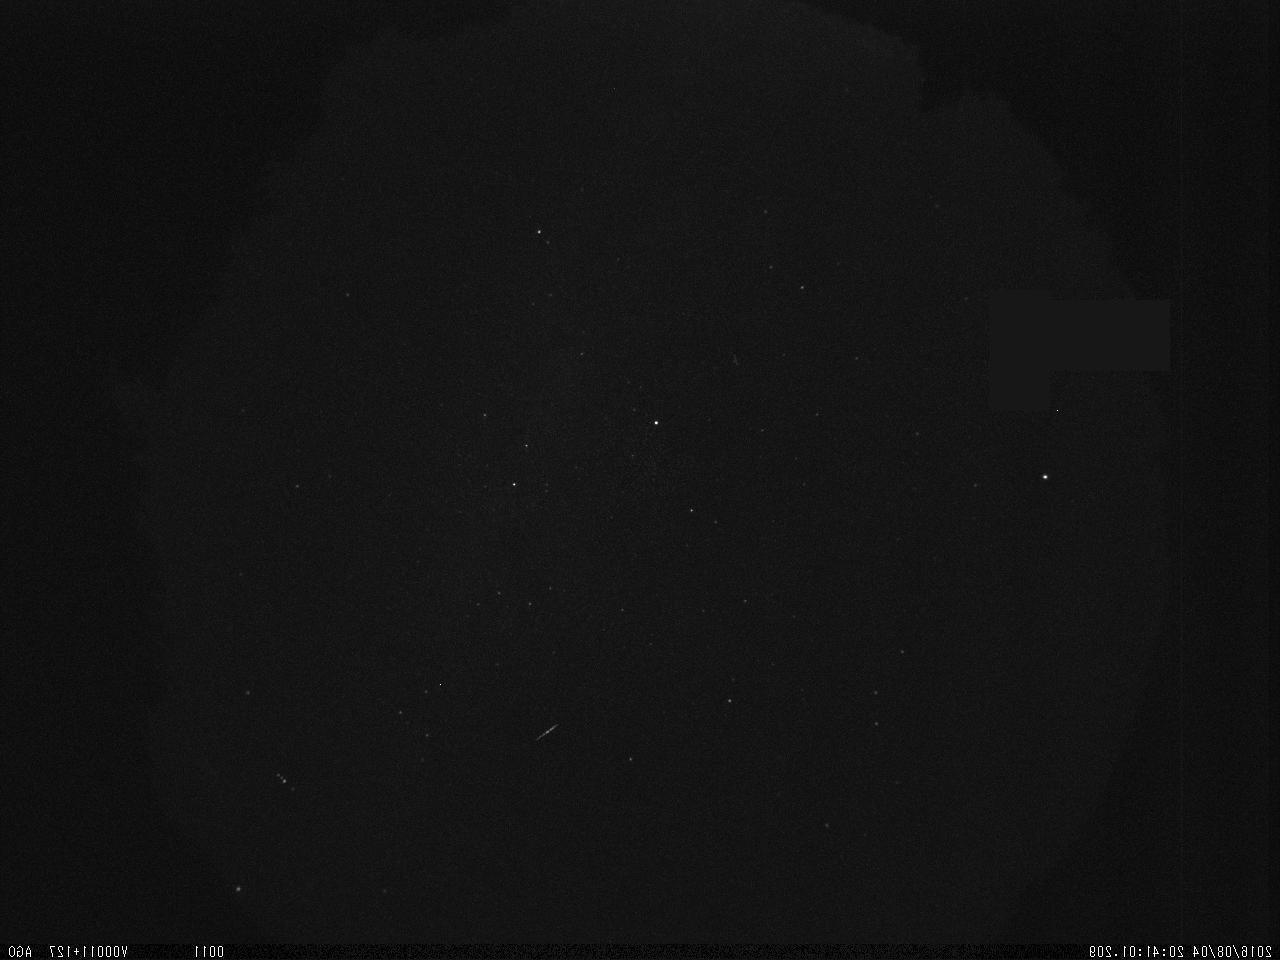meteor: (528, 718, 560, 747)
